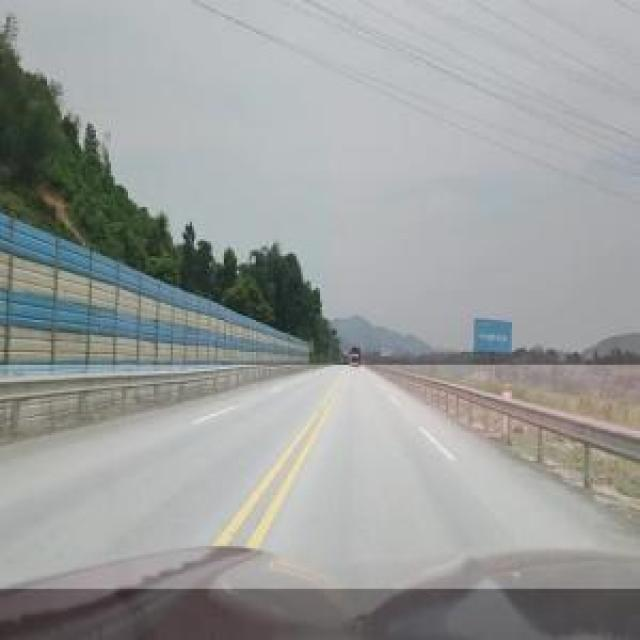clear-road: (0, 367, 640, 589)
